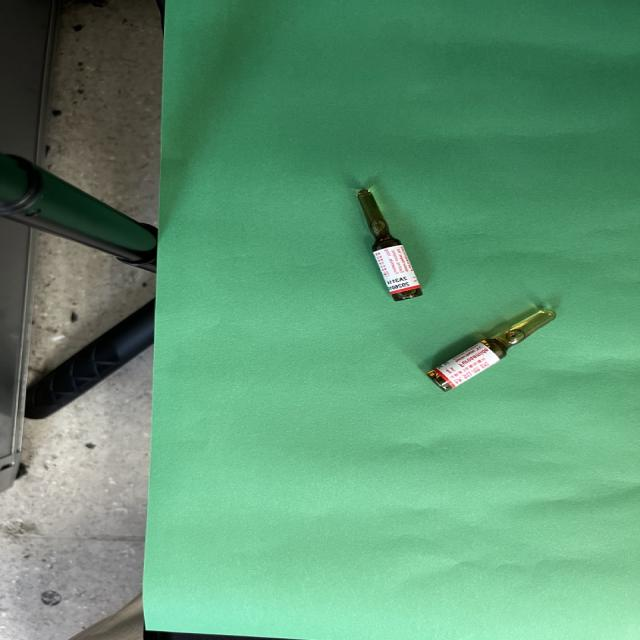Ampoules: (427, 309, 556, 391), (357, 188, 423, 301)
